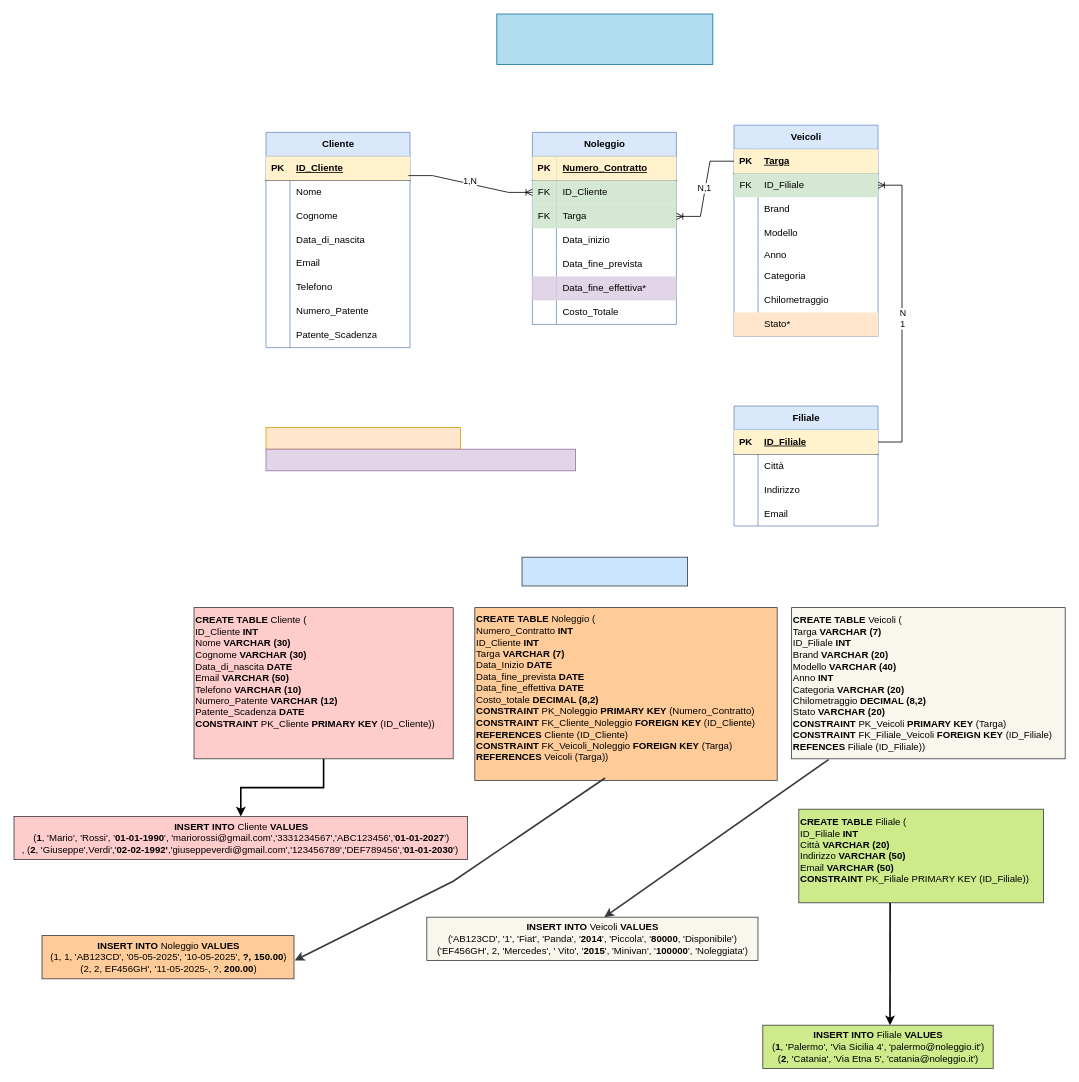
The diagram is 1079 pixels wide and 1082 high, and some of its shapes have lost their labels. Each missing label, with the centre of its shape:
*Disponibile, In manutenzione, Noleggiata: point 362,438
*Può avere un valore variabile o nullo finchè la vettura non è restituita: point 420,459
E/R - NOLEGGIO AUTO MODELLO CONCETTUALE: point 604,38
MODELLO LOGICO: point 604,571
